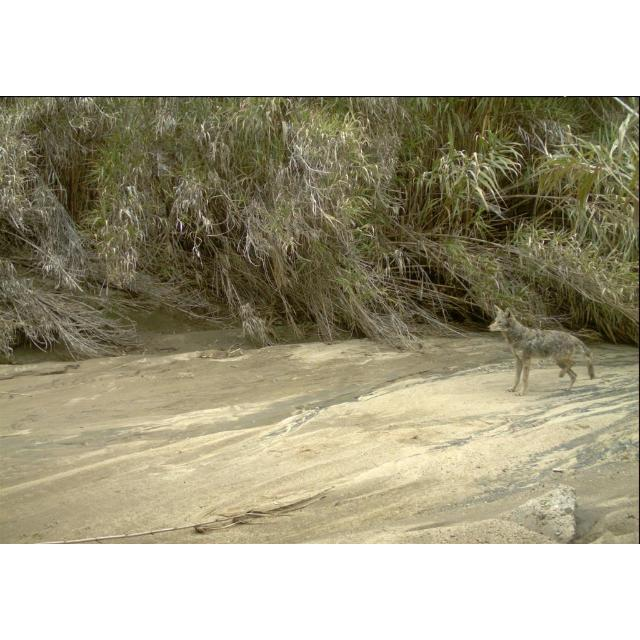animals: (486, 302, 602, 382)
